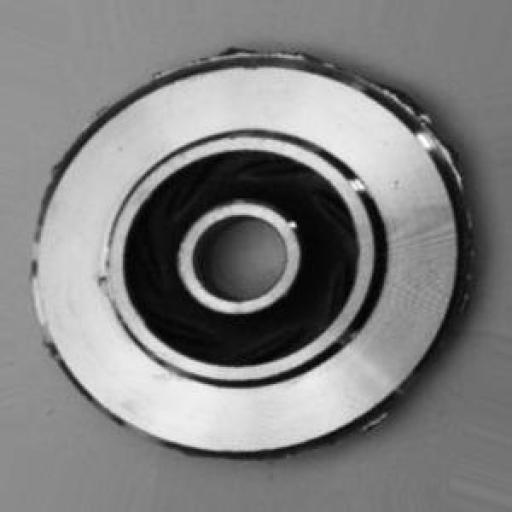defect: (28, 28, 491, 468)
